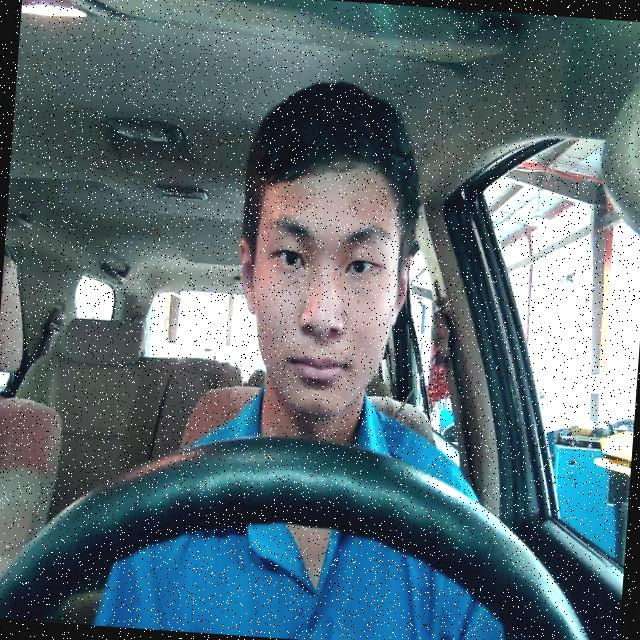focused: (227, 146, 419, 422)
